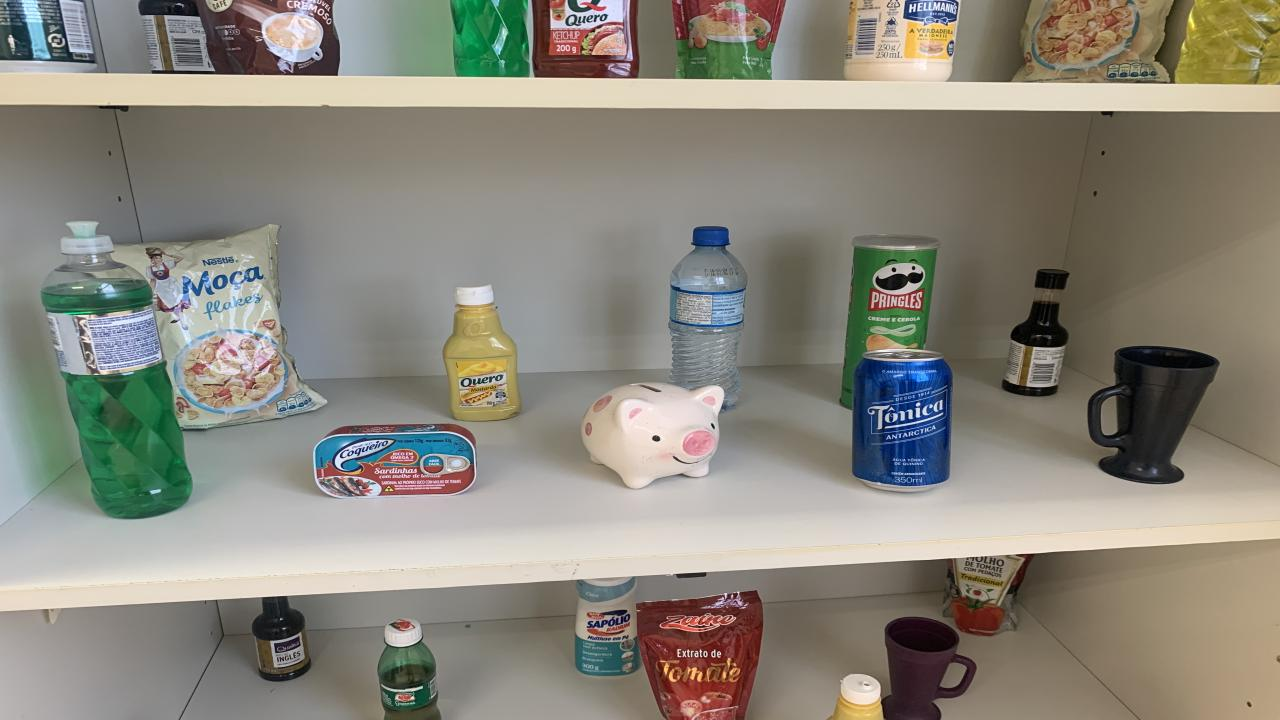Cleaner-Cleanup_Items: (575, 578, 640, 675)
Coffee-Pantry_Items: (198, 0, 340, 75)
Detergent-Cleanup_Items: (40, 221, 192, 518), (1175, 0, 1280, 84), (450, 0, 530, 77)
English_Sauce-Pantry_Items: (1002, 270, 1070, 396), (138, 0, 215, 73), (252, 596, 312, 682)
Flakes-Snacks: (112, 225, 325, 429), (1012, 0, 1172, 82)
Guarana-Drinks: (378, 619, 440, 720)
Ketchup-Pantry_Items: (532, 0, 640, 79), (532, 0, 638, 77)
Mayonnaise-Pantry_Items: (845, 0, 960, 82)
Mustard-Pantry_Items: (442, 285, 520, 422), (830, 675, 882, 720)
Pig_Safe-Miscellaneous: (582, 382, 725, 489)
Pringles-Snacks: (840, 234, 940, 407)
Tomato_Sauce-Pantry_Items: (638, 591, 762, 720), (672, 0, 785, 79), (942, 555, 1032, 636)
Tonic-Drinks: (852, 349, 952, 491)
Tuna_Can-Pantry_Items: (312, 424, 475, 499)
Water_Bottle-Drinks: (670, 227, 748, 411)
